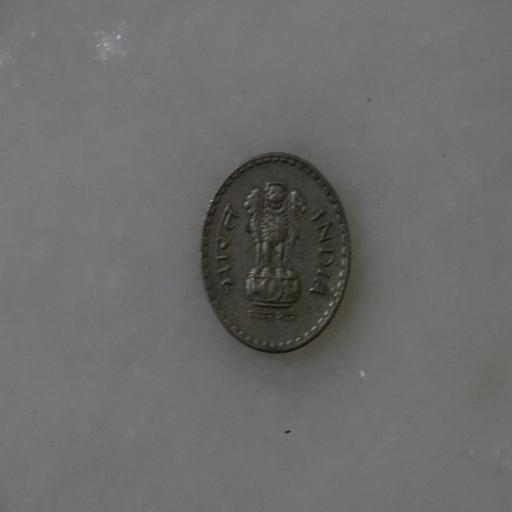rupee5: (197, 151, 352, 356)
